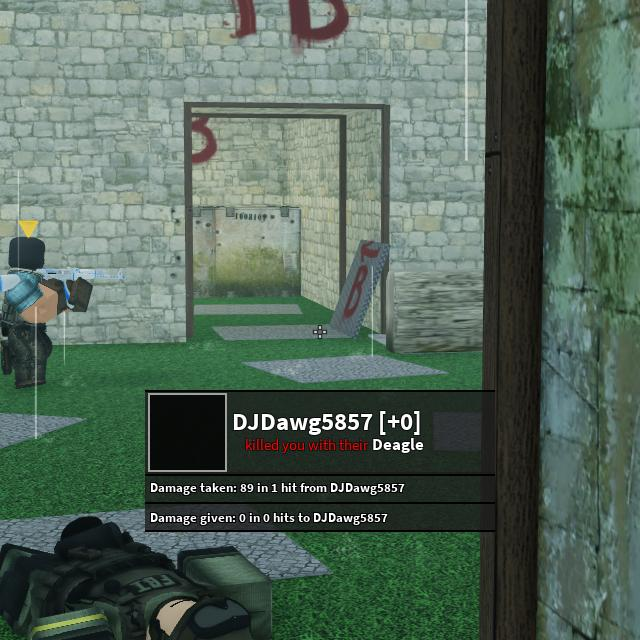Head: (10, 236, 44, 268)
Player: (0, 237, 93, 388)
